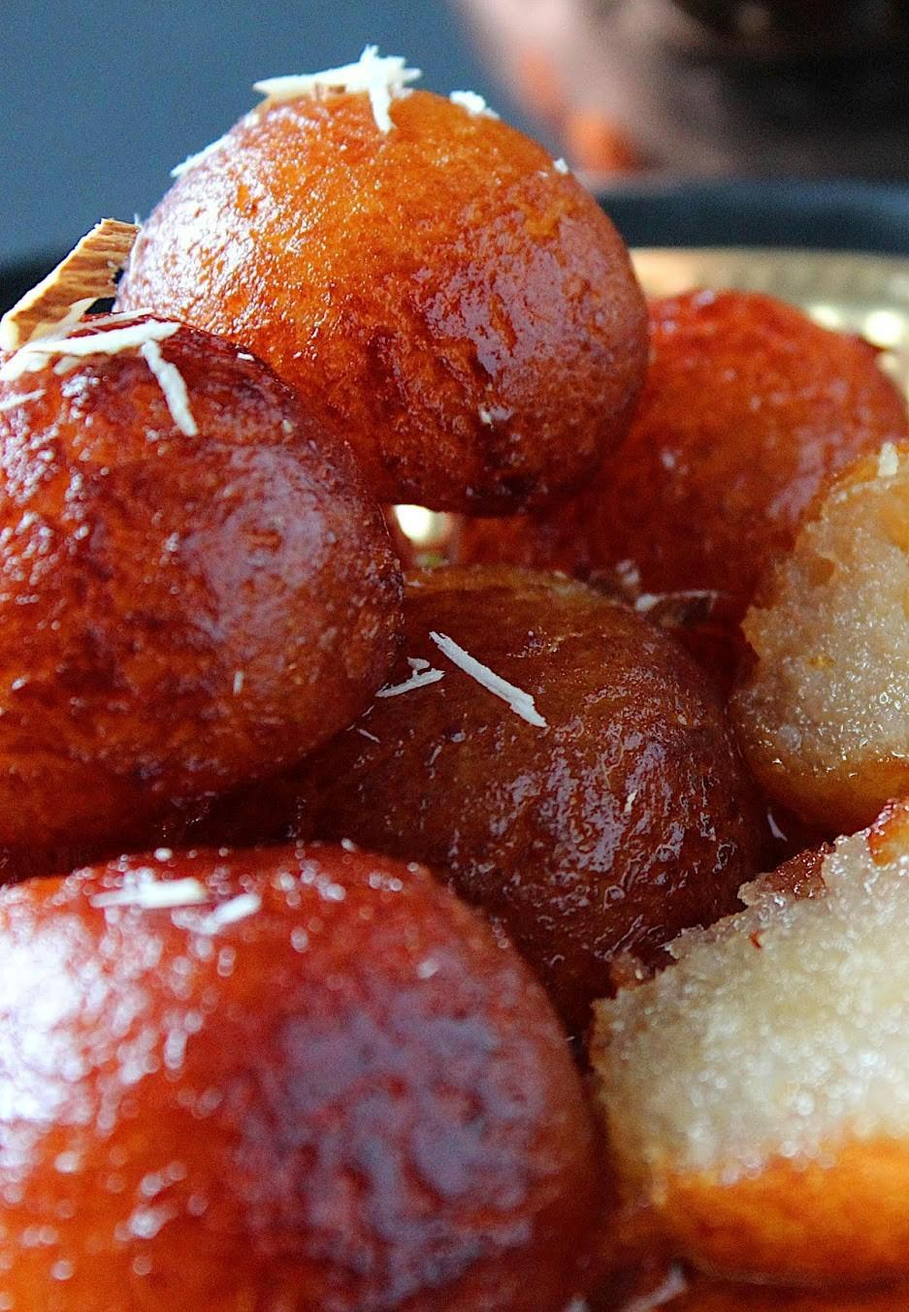GulabJamun: (0, 847, 602, 1309), (112, 48, 650, 511), (0, 308, 405, 844), (344, 562, 770, 1015), (598, 800, 909, 1291), (632, 275, 909, 634), (733, 461, 909, 834)
